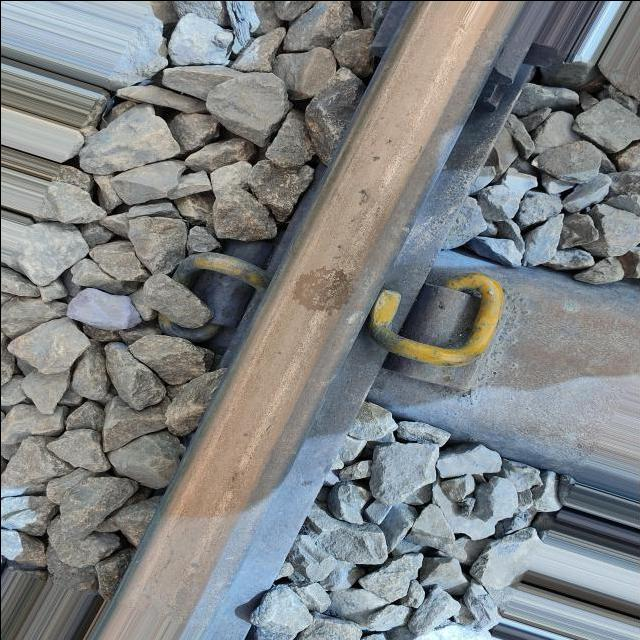squats_high: (290, 266, 356, 312), (357, 188, 369, 207), (369, 155, 381, 162)
